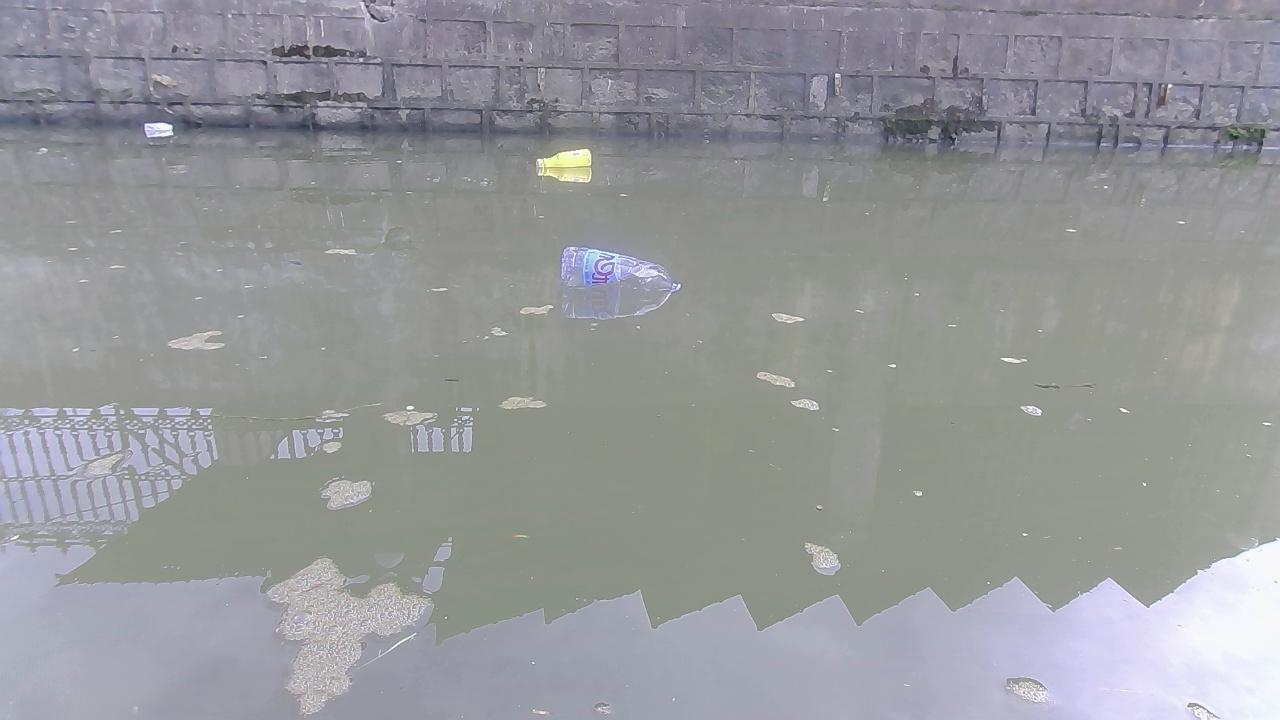Plastic: (559, 244, 683, 294), (535, 148, 595, 171), (142, 121, 174, 134)
